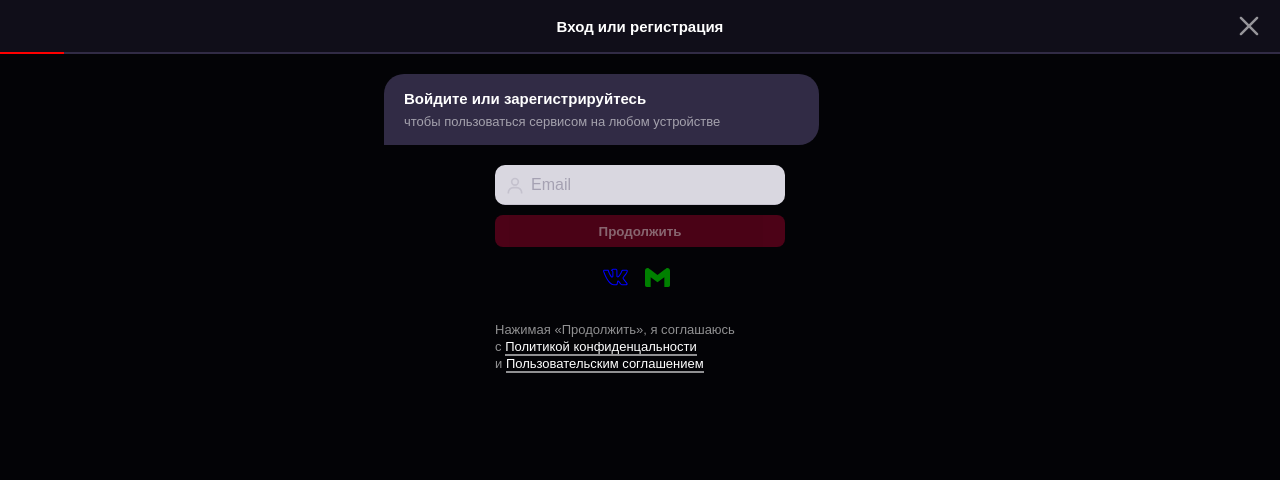
Test: ChatLogin › an error should appear on the email
Type "test" into the field with test id "emailInput". click: (640, 185)
box: [495,165,785,205]
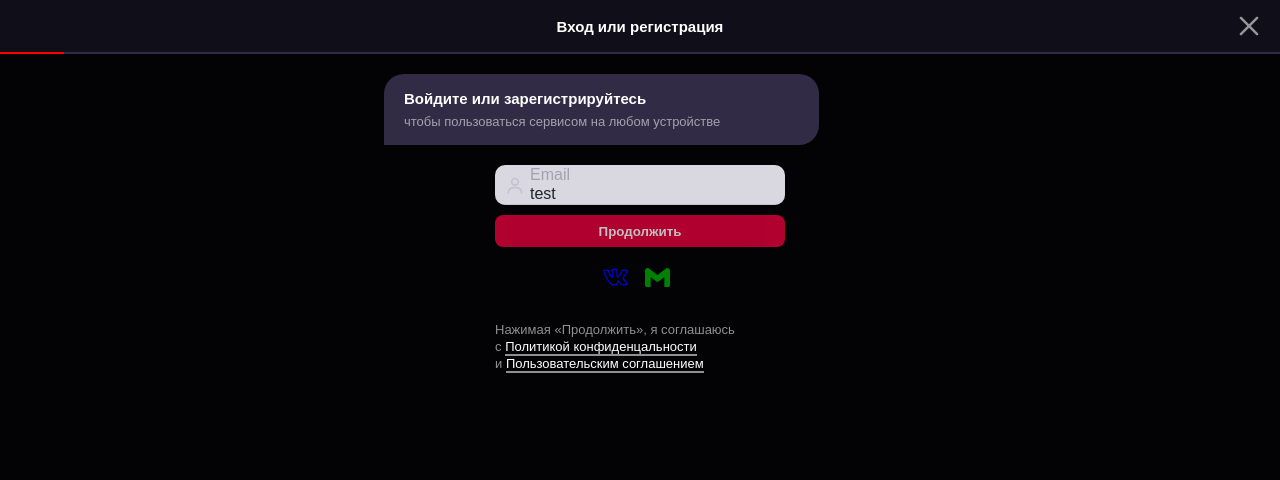
Click the button with test id "sendEmail". click: (640, 231)
box: [495,215,785,247]
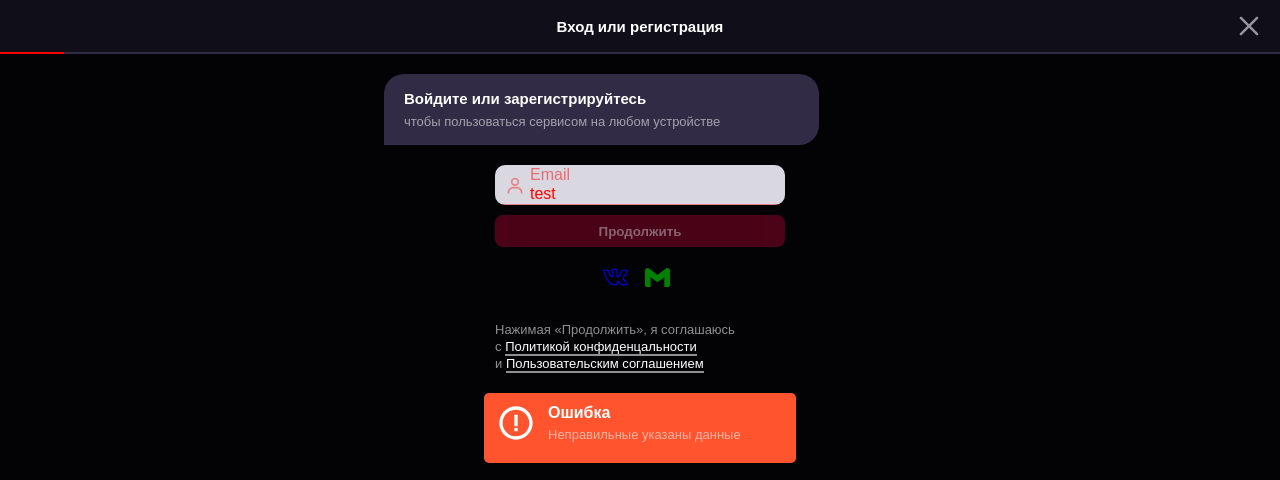
Expected: the element with test id "error" is shown, [484,393,796,463]
